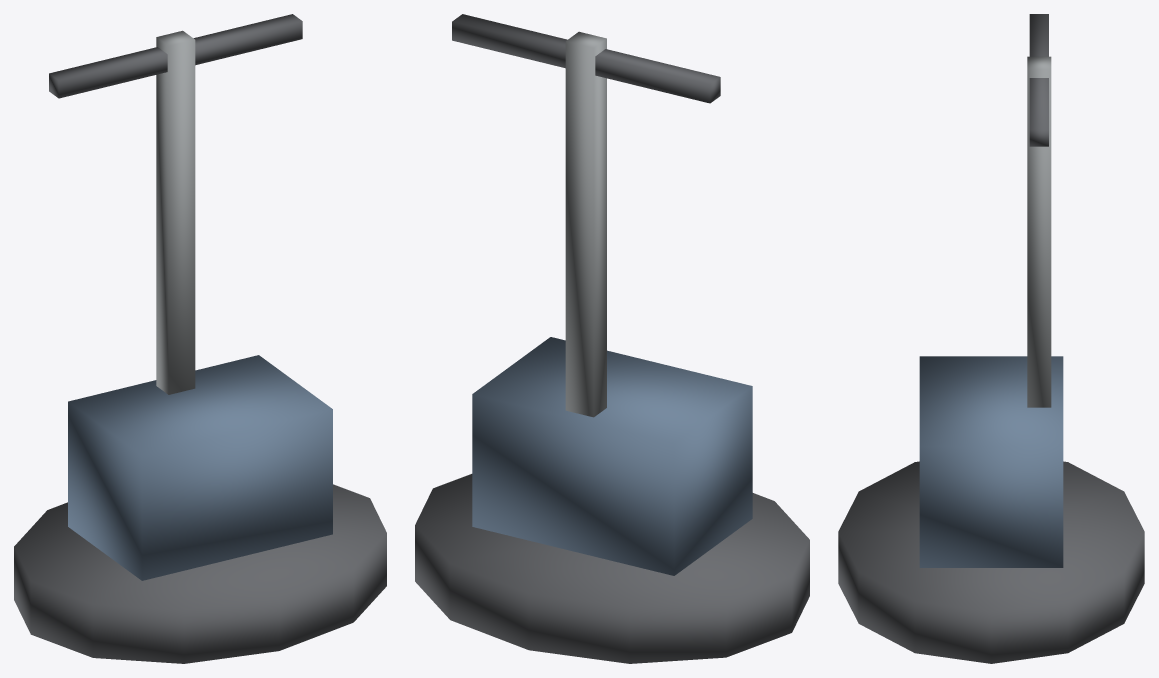
File: floor_buffer__wide.glb
The picture shows the model from 3 angles, left to right: view 1: azimuth 30°, elevation 25°; view 2: azimuth 150°, elevation 25°; view 3: azimuth 270°, elevation 25°; orthographic projection. The views are drawn at different scales.
Parts seen in each view (by area): view 1: world; view 2: world; view 3: world.
Boxes of the visible parts, x1,y1,x2,y2 form: world: (14, 14, 386, 663); world: (415, 14, 809, 663); world: (838, 14, 1144, 663).
Size of the model in its own units: 0.7936 by 1.2 by 0.64.
